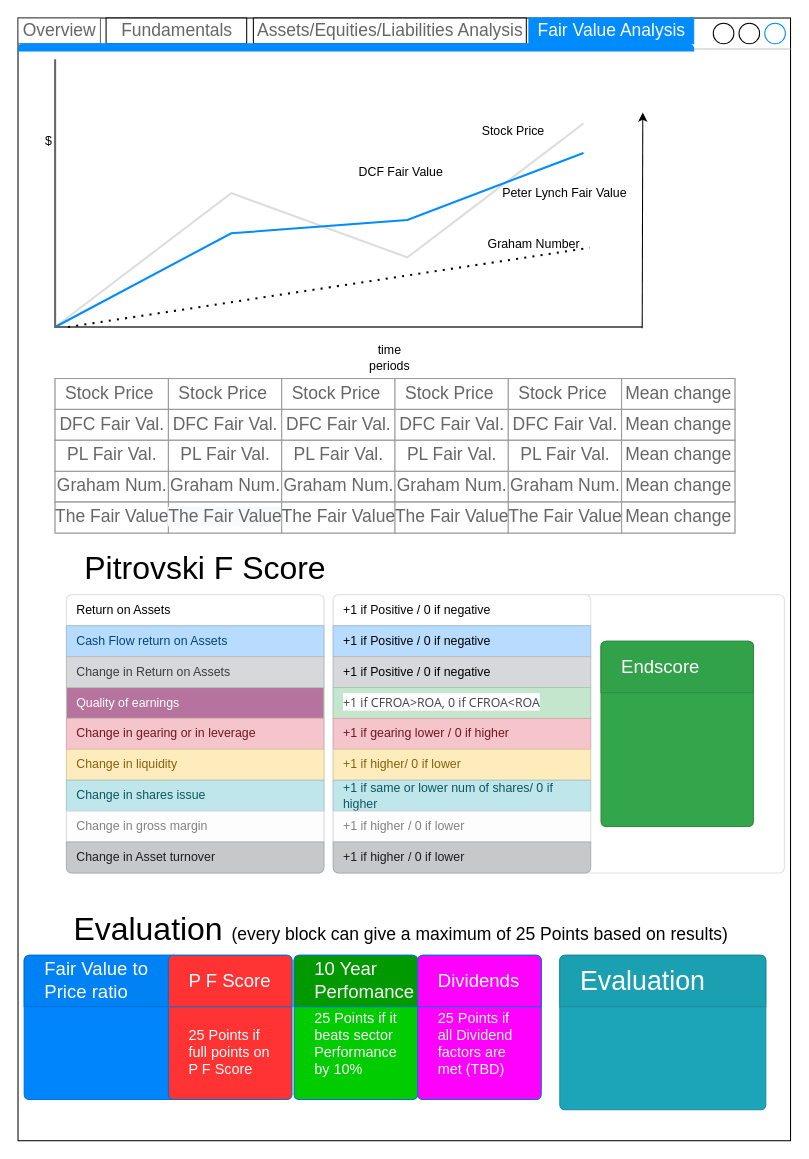
Image size: 809x1159. Some labels were removed from this diagram. Here are the shapes that lost their labels. From the top down, the centre of each, then its label:
point (676, 733): X/9
point (101, 1027): 25 Points if Fair Value is 15% below current Stock price
point (662, 1032): XXX / 100 Points
